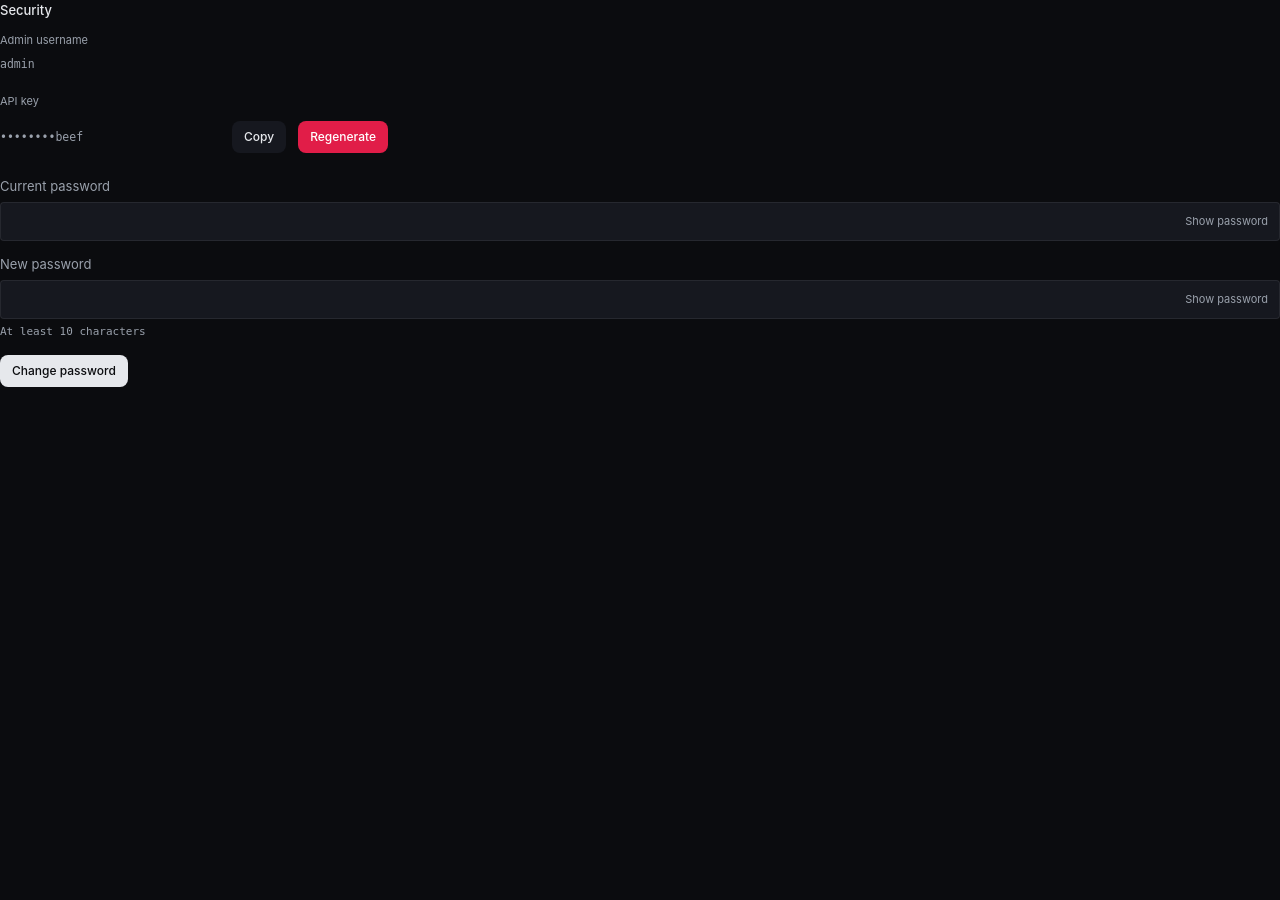
Scenario: SecuritySection（鉴权 A3 Task 13） › 重生成：点钮开 AlertDialog（陈述爆炸半径），确认后 POST，新尾 4 位上屏（审计前端 #5：不用 window.confirm）
This screenshot has width=1280, height=900.
Expected: the text "••••••••beef" is shown, [0,130,83,144]
What coordinates should you click on to do the following:
click the button "Regenerate"
I would click on:
 (343, 137)
Its box is [298,121,388,153].
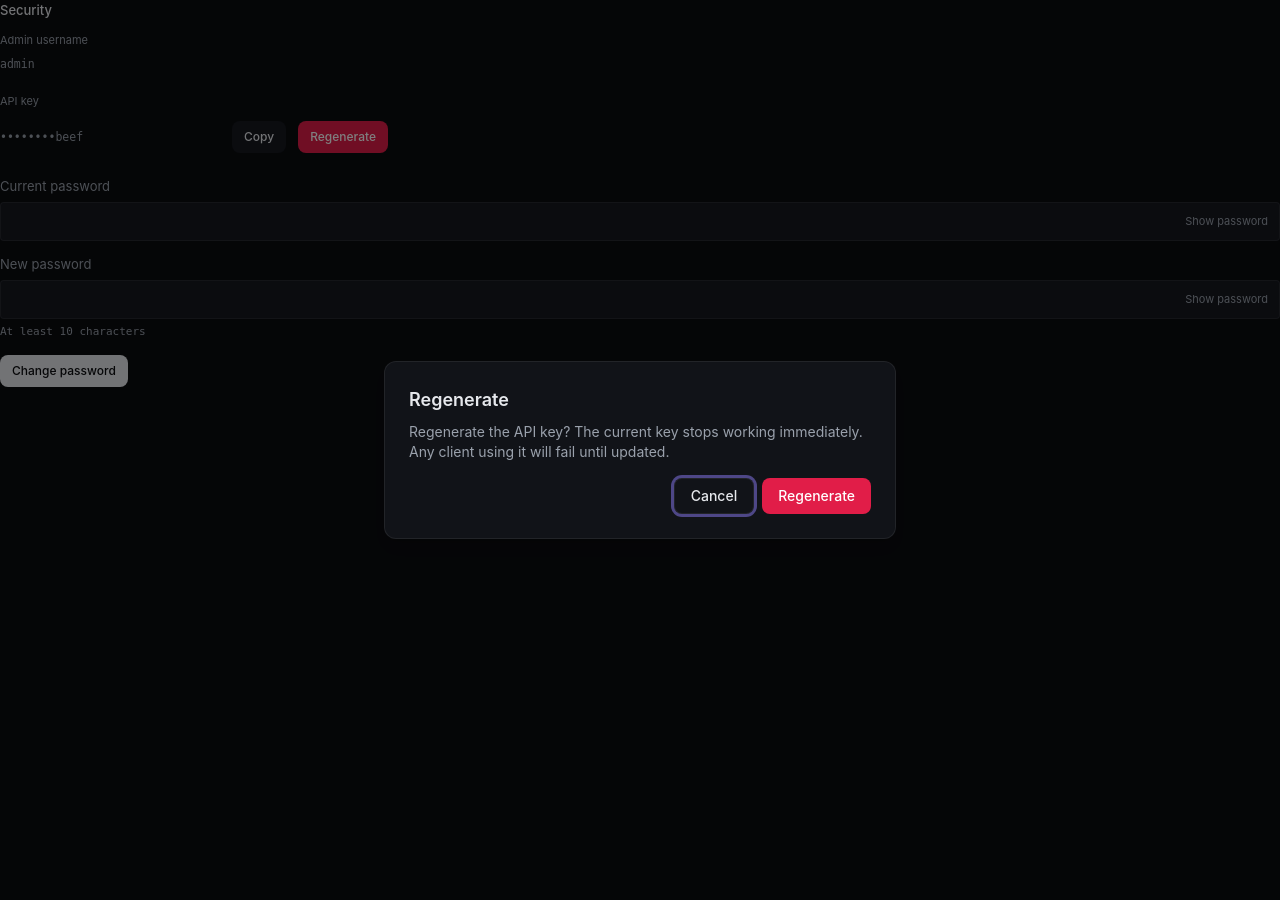
What coordinates should you click on to do the following:
click the button "Regenerate"
I would click on:
 (817, 496)
Its box is [762,478,871,514].
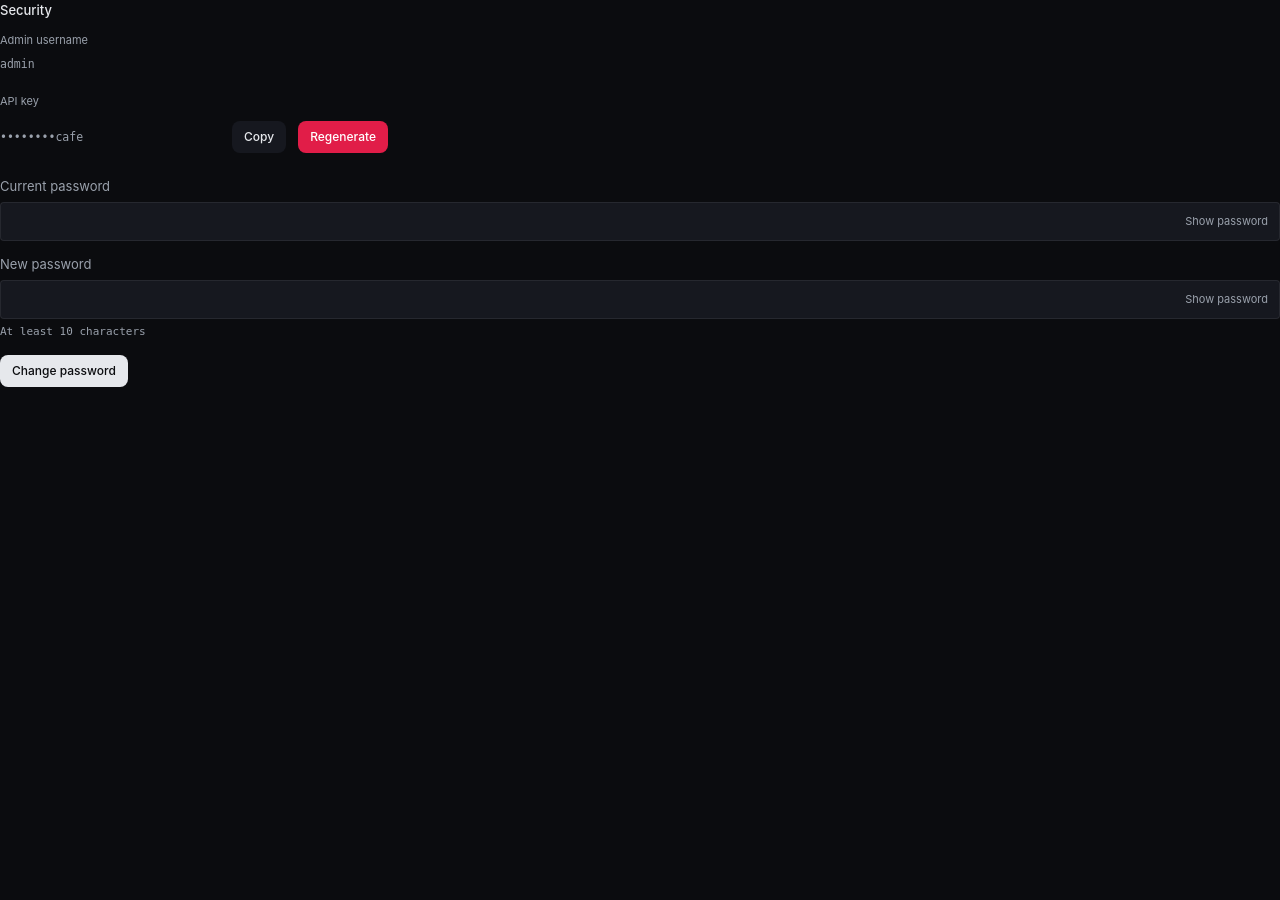
Expected: the text "••••••••cafe" is shown, [0,130,83,144]
